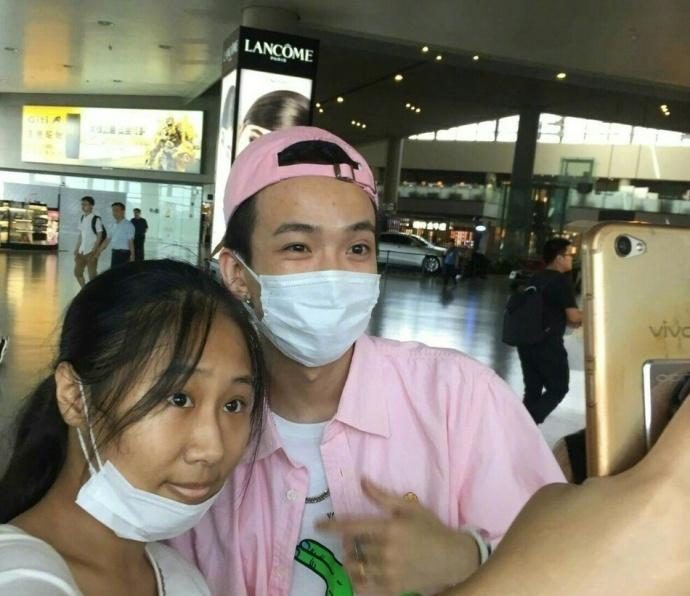OK: (237, 212, 384, 359)
WRONG: (93, 359, 274, 540)
